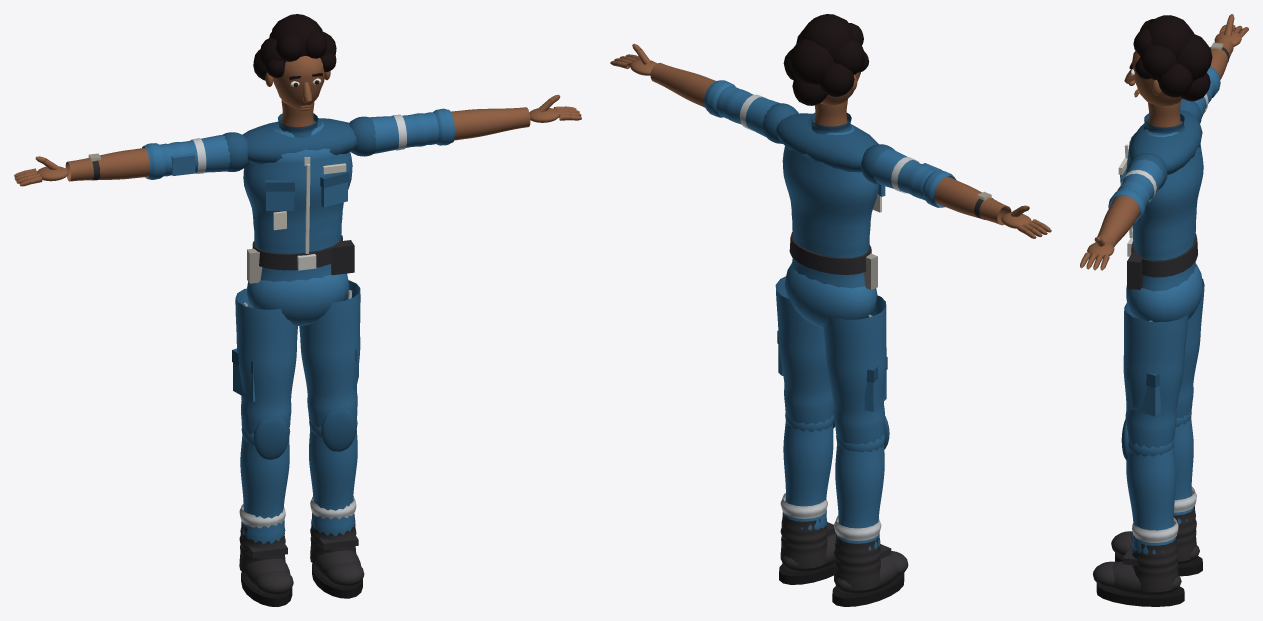
The model's file is C03_colonist_indoor_blue.glb.
3 views of the same model, side by side, from view 1: azimuth 30°, elevation 25°; view 2: azimuth 150°, elevation 25°; view 3: azimuth 270°, elevation 25° (orthographic).
Parts seen in each view (by area): view 1: thigh, boot_strap, knee_patch, boot_shaft, boot_sole, ankle_stripe, pocket_snap; view 2: thigh, boot_strap, boot_shaft, knee_patch, boot_sole, ankle_stripe; view 3: thigh, boot_strap, boot_shaft, knee_patch, boot_sole, ankle_stripe.
Boxes of the visible parts, x1,y1,x2,y2 form: thigh: [142, 108, 454, 544]; boot_strap: [14, 14, 581, 558]; knee_patch: [223, 113, 376, 459]; boot_shaft: [239, 513, 364, 595]; boot_sole: [241, 163, 362, 606]; ankle_stripe: [190, 114, 406, 528]; pocket_snap: [297, 157, 316, 270]; thigh: [704, 80, 956, 550]; boot_strap: [610, 14, 1051, 559]; boot_shaft: [780, 512, 908, 594]; knee_patch: [763, 103, 894, 449]; boot_sole: [779, 194, 904, 606]; ankle_stripe: [739, 94, 919, 540]; thigh: [1108, 66, 1220, 554]; boot_strap: [1080, 14, 1248, 565]; boot_shaft: [1093, 506, 1199, 595]; knee_patch: [1120, 98, 1202, 460]; boot_sole: [1096, 158, 1202, 606]; ankle_stripe: [1121, 94, 1208, 542].
Size of the model in its own units: 1.71 by 1.85 by 0.5019.
